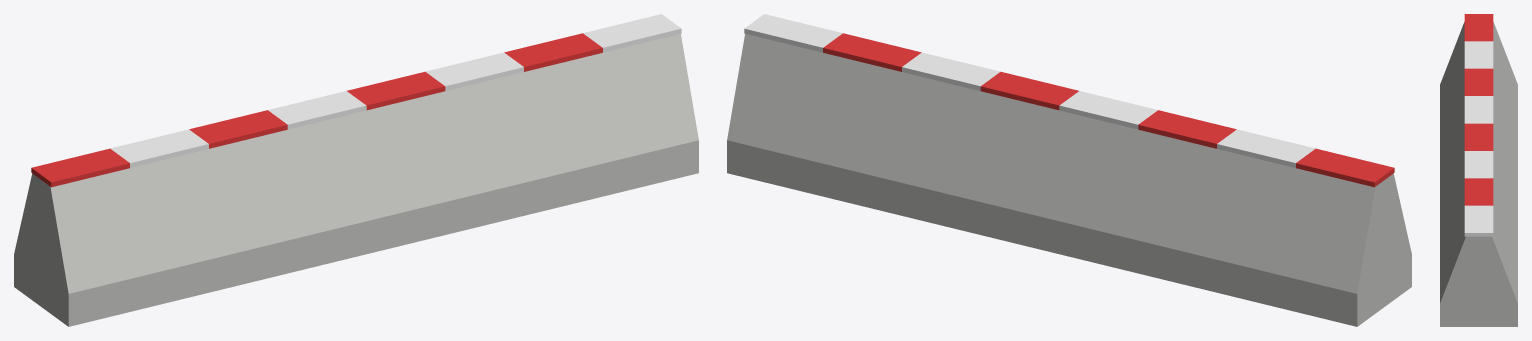
File: barrier.glb
3 renders of one model, left to right at view 1: azimuth 30°, elevation 25°; view 2: azimuth 150°, elevation 25°; view 3: azimuth 270°, elevation 25°, orthographic. The views are drawn at different scales.
Visible parts, largest first — view 1: barrier; view 2: barrier; view 3: barrier.
Boxes of the visible parts, bbox=[...] form: barrier: bbox=[14, 14, 698, 326]; barrier: bbox=[727, 14, 1411, 326]; barrier: bbox=[1440, 14, 1517, 326].
Size of the model in its own units: 4 by 0.8 by 0.6.
